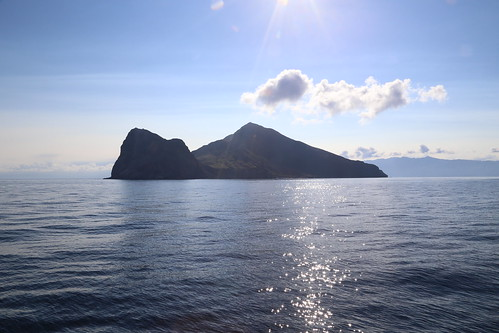turtleIslandLeft: (116, 114, 396, 183)
